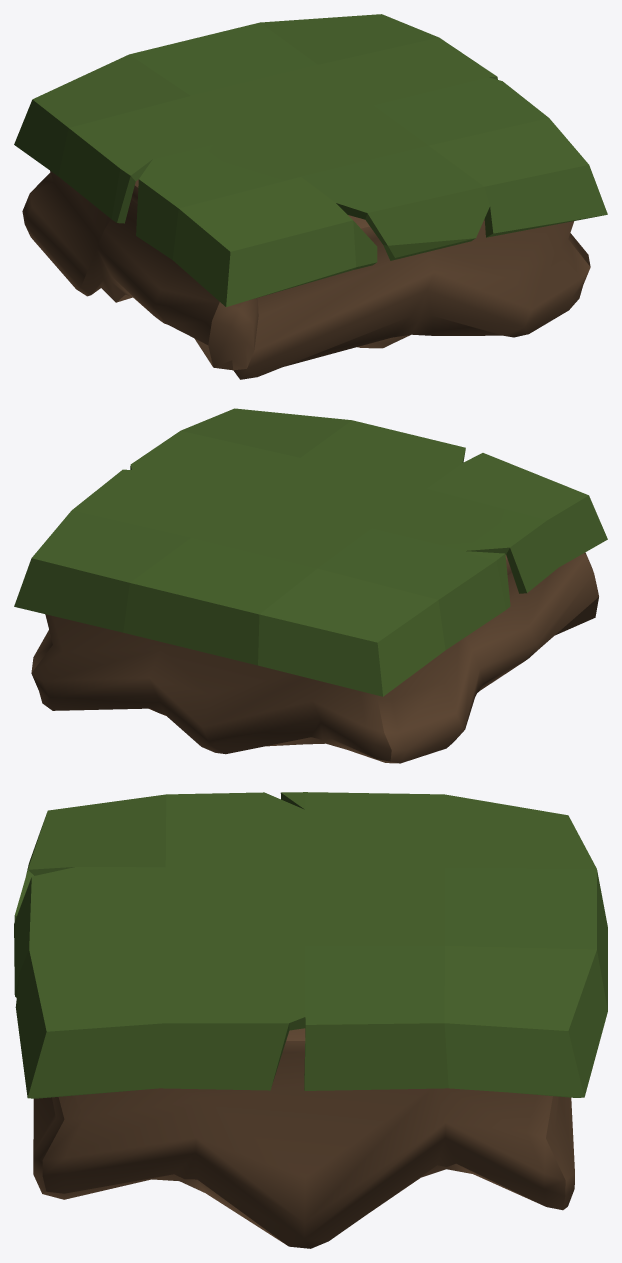
Rendered from Crumbling platformC.fbx.
The picture shows the model from 3 angles, top to bottom: view 1: azimuth 30°, elevation 25°; view 2: azimuth 150°, elevation 25°; view 3: azimuth 270°, elevation 25°; orthographic projection. The views are drawn at different scales.
Visible parts, largest first — view 1: Cube; view 2: Cube; view 3: Cube.
Boxes of the visible parts, left/top/right/bottom form: Cube: left=14, top=14, right=607, bottom=379; Cube: left=14, top=408, right=607, bottom=763; Cube: left=14, top=792, right=607, bottom=1248.
Bounding box in the file's own units: 207 × 94.35 × 213.
